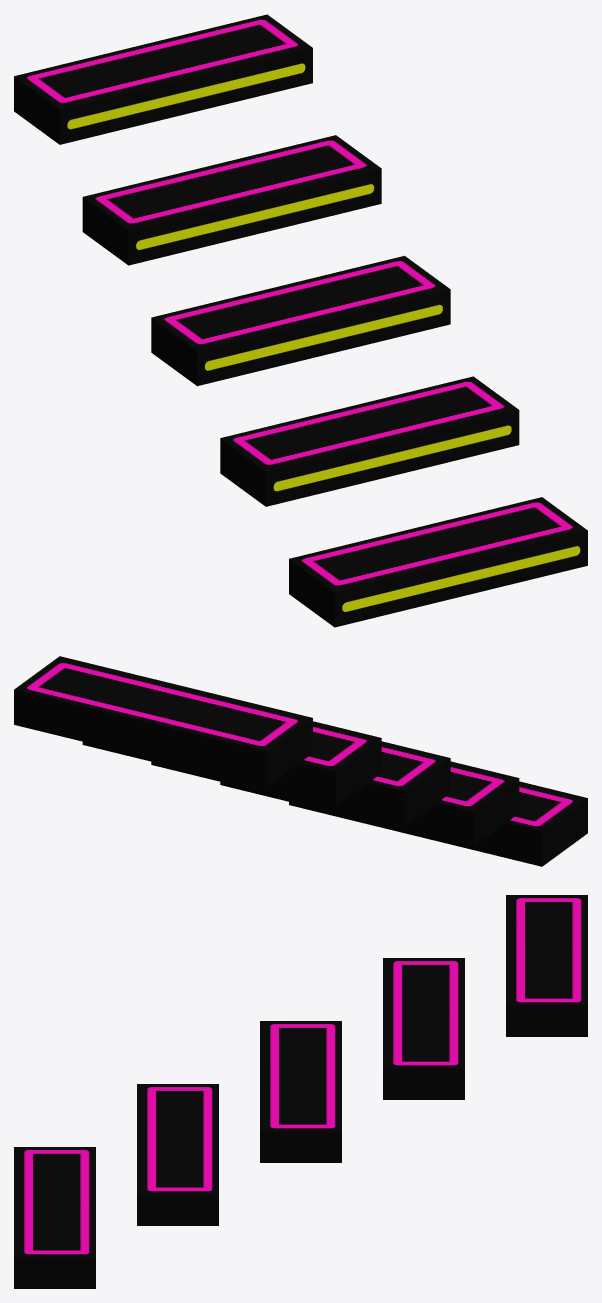
The model's file is stairs.gltf.
3 renders of one model, top to bottom at view 1: azimuth 30°, elevation 25°; view 2: azimuth 150°, elevation 25°; view 3: azimuth 270°, elevation 25°, orthographic. The views are drawn at different scales.
Parts seen in each view (by area): view 1: stairs_glb; view 2: stairs_glb; view 3: stairs_glb.
Boxes of the visible parts, <box> form: stairs_glb: <box>14,14,587,627</box>; stairs_glb: <box>14,656,587,866</box>; stairs_glb: <box>14,895,587,1288</box>.
Size of what is drawn, in the model's own units: 2.23 by 2.67 by 4.9.
Materials: 1 (1 with a texture image).
